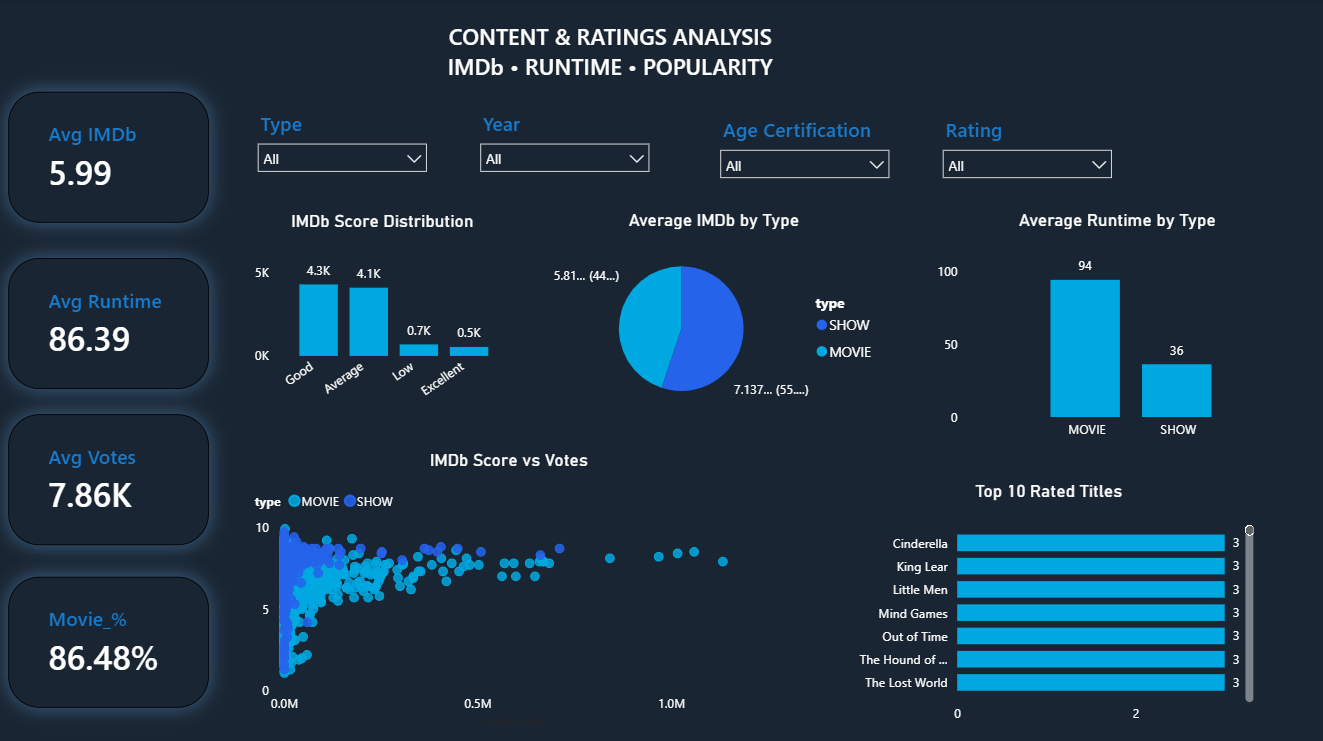

The dashboard page shown, as its layout file describes it:
{"tool":"powerbi","page":{"name":"Page 2","canvas":[1280,720],"ordinal":1},"visuals":[{"type":"textbox","box":[241.5,0,701.2,104.3],"z":0},{"type":"cardVisual","fields":{"Data":["titles.Avg_IMDb_score"]},"box":[11,90.6,193.5,126.2],"z":1000},{"type":"cardVisual","fields":{"Data":["titles.Avg_Runtime"]},"box":[11,251.1,193.5,126.2],"z":2000},{"type":"cardVisual","fields":{"Data":["titles.Average Votes"]},"box":[11,402.1,193.5,126.2],"z":3000},{"type":"cardVisual","fields":{"Data":["titles.Movie_%"]},"box":[11,558.5,193.5,126.2],"z":4000},{"type":"slicer","fields":{"Values":["titles.type"]},"box":[241.5,104.3,183.9,83.7],"z":5000},{"type":"slicer","fields":{"Values":["titles.age_certification"]},"box":[687.5,109.8,183.9,78.2],"z":6000},{"type":"slicer","fields":{"Values":["titles.release_year"]},"box":[455.6,104.3,183.9,83.7],"z":7000},{"type":"slicer","fields":{"Values":["titles.Rating_Category"]},"box":[902.9,109.8,183.9,78.2],"z":8000},{"type":"columnChart","title":"IMDb Score Distribution","fields":{"Category":["titles.Rating_Category"],"Y":["titles.Total_titles"]},"box":[243.7,205,256.6,200.3],"z":9000},{"type":"pieChart","title":"Average IMDb by Type","fields":{"Category":["titles.type"],"Y":["titles.Avg_IMDb_score"]},"box":[525.6,204.5,332.1,200.3],"z":10000},{"type":"clusteredBarChart","title":"Top 10 Rated Titles","fields":{"Category":["titles.title"],"Y":["CountNonNull(titles.imdb_score)"]},"box":[812.4,465.2,406.2,242.9],"z":11000},{"type":"scatterChart","title":"IMDb Score vs Votes","fields":{"X":["titles.imdb_votes"],"Y":["titles.imdb_score"],"Series":["titles.type"]},"box":[244.3,435,500.9,273.1],"z":12000},{"type":"clusteredColumnChart","title":"Average Runtime by Type","fields":{"Category":["titles.type"],"Y":["titles.Avg_Runtime"]},"box":[902.9,204.5,358.1,230.5],"z":13000}]}

Visuals, with their boxes in screenshot pixels (x1, y1, x2, y2), scaled from the page's 1280x720 canvas onto the 1323x741 screenshot:
textbox: {"x1": 250, "y1": 0, "x2": 974, "y2": 107}
cardVisual - titles.Avg_IMDb_score: {"x1": 11, "y1": 93, "x2": 211, "y2": 223}
cardVisual - titles.Avg_Runtime: {"x1": 11, "y1": 258, "x2": 211, "y2": 388}
cardVisual - titles.Average Votes: {"x1": 11, "y1": 414, "x2": 211, "y2": 544}
cardVisual - titles.Movie_%: {"x1": 11, "y1": 575, "x2": 211, "y2": 705}
slicer - titles.type: {"x1": 250, "y1": 107, "x2": 440, "y2": 193}
slicer - titles.age_certification: {"x1": 711, "y1": 113, "x2": 901, "y2": 193}
slicer - titles.release_year: {"x1": 471, "y1": 107, "x2": 661, "y2": 193}
slicer - titles.Rating_Category: {"x1": 933, "y1": 113, "x2": 1123, "y2": 193}
"IMDb Score Distribution" columnChart: {"x1": 252, "y1": 211, "x2": 517, "y2": 417}
"Average IMDb by Type" pieChart: {"x1": 543, "y1": 210, "x2": 887, "y2": 417}
"Top 10 Rated Titles" clusteredBarChart: {"x1": 840, "y1": 479, "x2": 1260, "y2": 729}
"IMDb Score vs Votes" scatterChart: {"x1": 253, "y1": 448, "x2": 770, "y2": 729}
"Average Runtime by Type" clusteredColumnChart: {"x1": 933, "y1": 210, "x2": 1303, "y2": 448}
